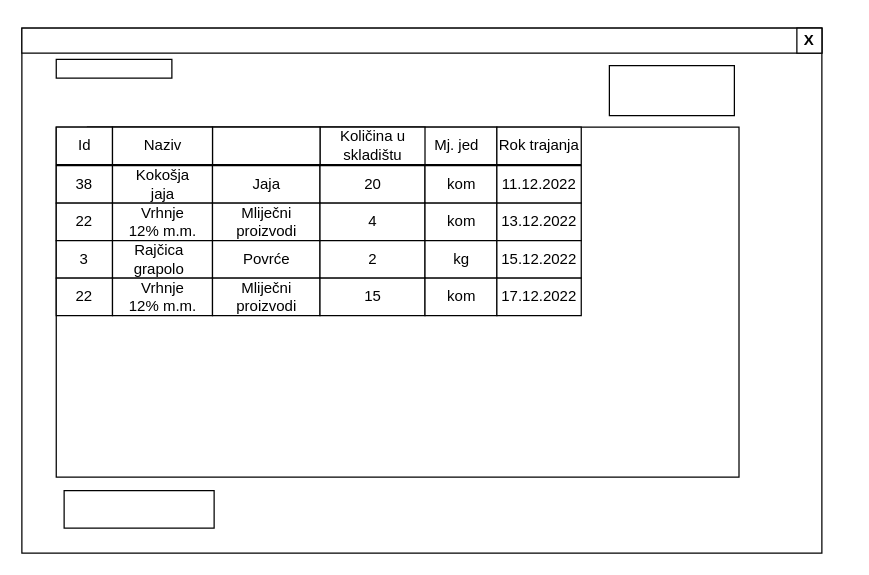
The diagram is 869 pixels wide and 575 high, and some of its shapes have lost their labels. The centre of each missing label's shape, as x and y in pixels:
"Generiraj izvještaj" goes at point 671,90.
"Natrag" goes at point 113,68.
"Spremi" goes at point 138,508.
"Vrsta namirnice" goes at point 265,145.
